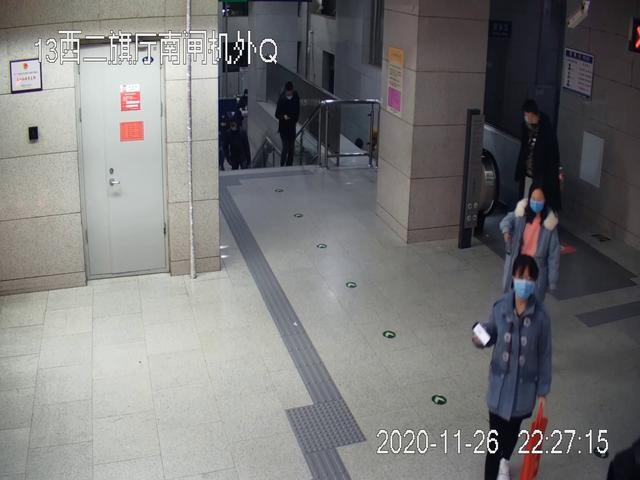person: (469, 254, 553, 480), (502, 186, 557, 328), (275, 80, 304, 170)
